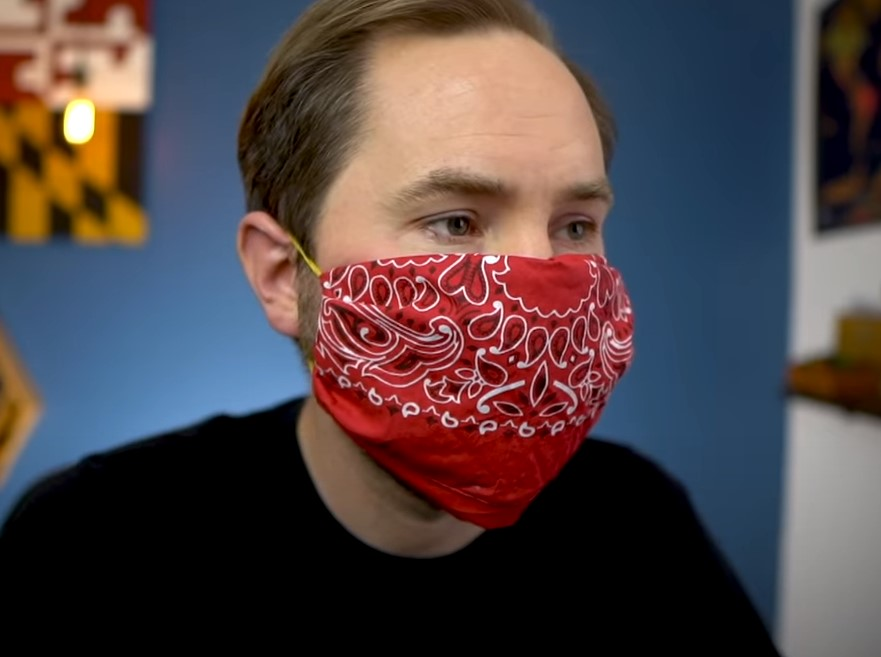face_with_mask: (234, 8, 638, 531)
